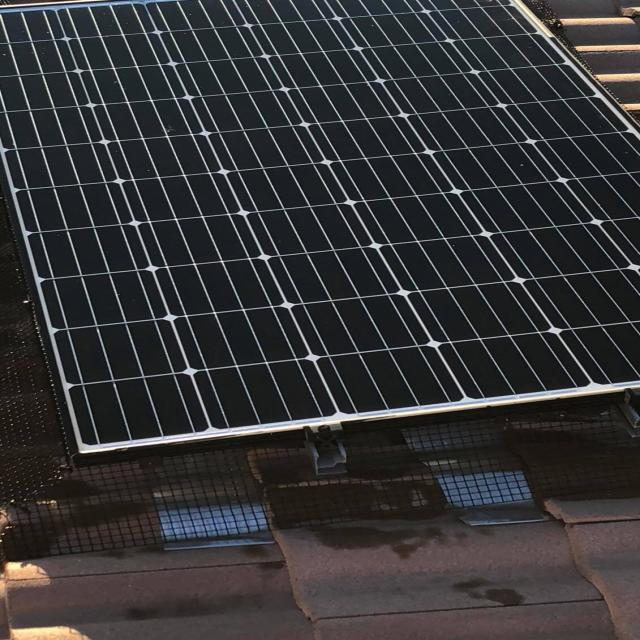clean-solar-panel: (2, 0, 636, 452)
